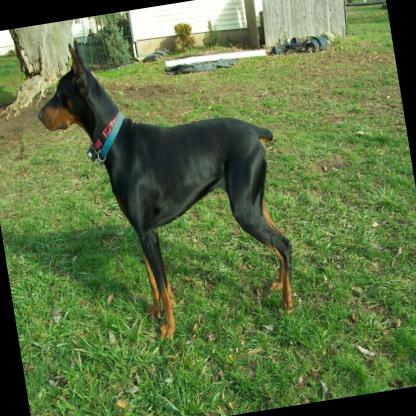Doberman: (24, 7, 306, 356)
